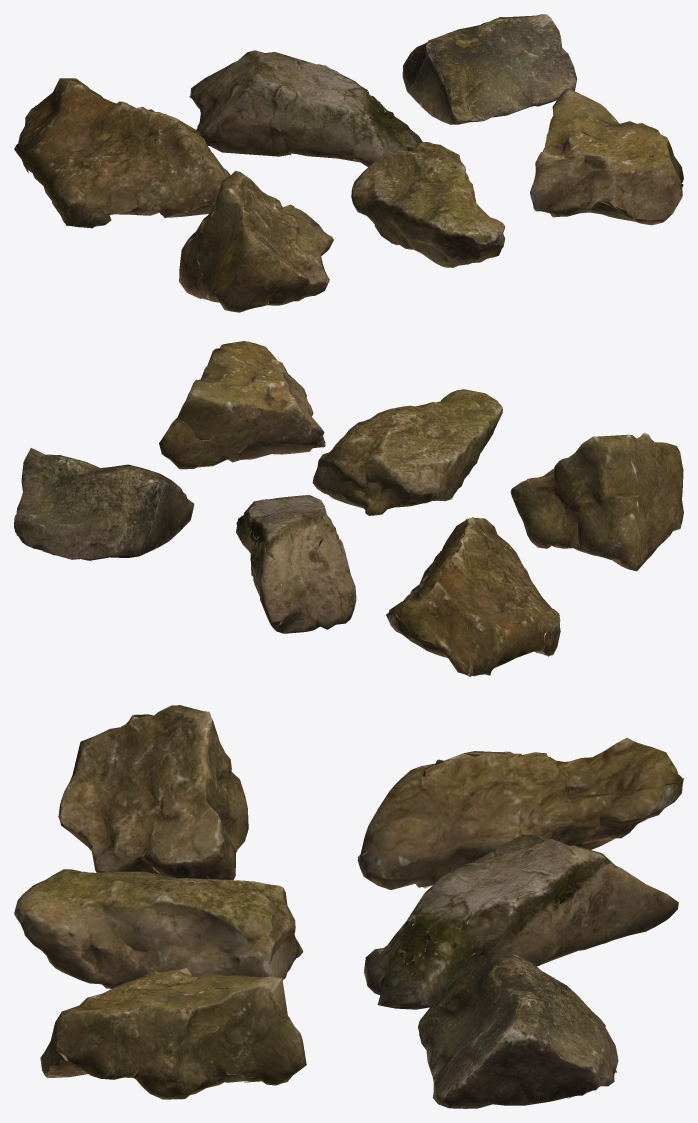
Rendered from rock_moss_set_01.glb.
3 renders of one model, top to bottom at view 1: azimuth 30°, elevation 25°; view 2: azimuth 150°, elevation 25°; view 3: azimuth 270°, elevation 25°, orthographic. The views are drawn at different scales.
Visible parts, largest first — view 1: rock_moss_set_01_rock01, rock_moss_set_01_rock02, rock_moss_set_01_rock06, rock_moss_set_01_rock04, rock_moss_set_01_rock03, rock_moss_set_01_rock05; view 2: rock_moss_set_01_rock04, rock_moss_set_01_rock01, rock_moss_set_01_rock05, rock_moss_set_01_rock03, rock_moss_set_01_rock06, rock_moss_set_01_rock02; view 3: rock_moss_set_01_rock01, rock_moss_set_01_rock02, rock_moss_set_01_rock05, rock_moss_set_01_rock04, rock_moss_set_01_rock06, rock_moss_set_01_rock03.
Boxes of the visible parts, x1,y1,x2,y2 form: rock_moss_set_01_rock01: [14, 78, 230, 228]; rock_moss_set_01_rock02: [189, 50, 422, 166]; rock_moss_set_01_rock06: [530, 88, 683, 225]; rock_moss_set_01_rock04: [179, 170, 333, 312]; rock_moss_set_01_rock03: [402, 14, 577, 124]; rock_moss_set_01_rock05: [351, 142, 505, 267]; rock_moss_set_01_rock04: [510, 432, 683, 571]; rock_moss_set_01_rock01: [386, 517, 560, 676]; rock_moss_set_01_rock05: [312, 389, 502, 515]; rock_moss_set_01_rock03: [14, 448, 194, 561]; rock_moss_set_01_rock06: [159, 341, 325, 469]; rock_moss_set_01_rock02: [236, 495, 356, 633]; rock_moss_set_01_rock01: [357, 738, 683, 889]; rock_moss_set_01_rock02: [364, 834, 678, 1009]; rock_moss_set_01_rock05: [14, 869, 303, 988]; rock_moss_set_01_rock04: [58, 705, 248, 880]; rock_moss_set_01_rock06: [40, 967, 306, 1099]; rock_moss_set_01_rock03: [418, 954, 618, 1108].
Bounding box in the file's own units: 7.98 × 1.77 × 6.96.
Materials: 1 (1 with a texture image).
